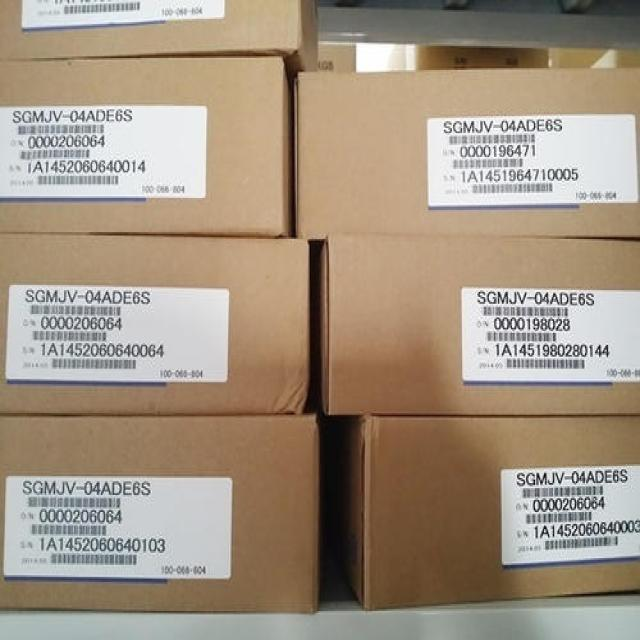box: (0, 411, 320, 612), (291, 67, 639, 239), (332, 415, 639, 609), (317, 237, 639, 416), (0, 232, 308, 415), (0, 58, 292, 235), (0, 2, 320, 70), (319, 43, 357, 71)
